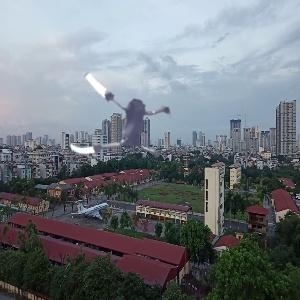drone: (62, 57, 187, 182)
